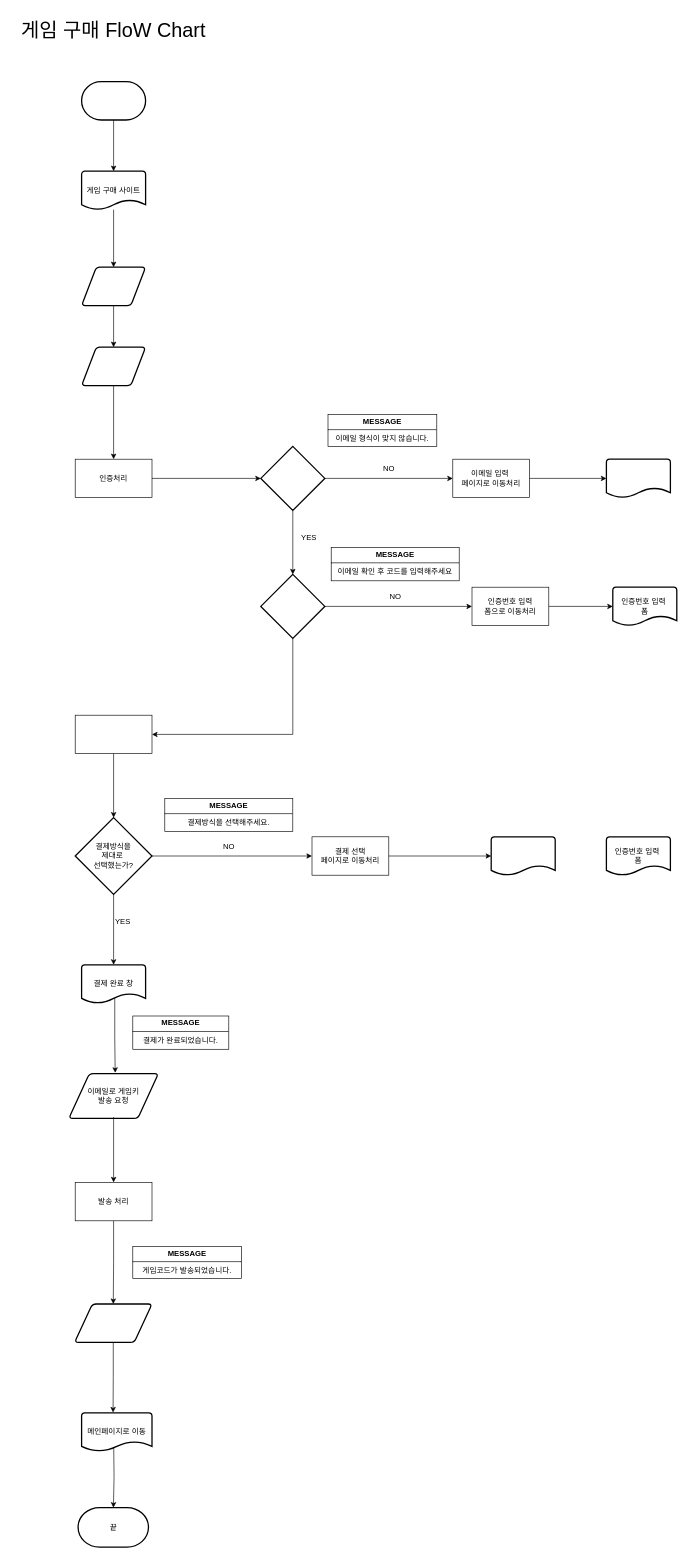
Image size: 688x1558. Some labels were removed from this diagram. Each missing label, with the centre of its shape:
"결제선택 페이지" belongs at [523,856].
"구매요청" belongs at [113,286].
"구매처리" belongs at [113,734].
"메세지 확인" belongs at [113,1323].
"시작" belongs at [113,100].
"이메일 페이지" belongs at [638,478].
"이메일이 맞는지?" belongs at [292,478].
"인증번호가 맞는지?" belongs at [292,606].
"인증요청" belongs at [113,366].
